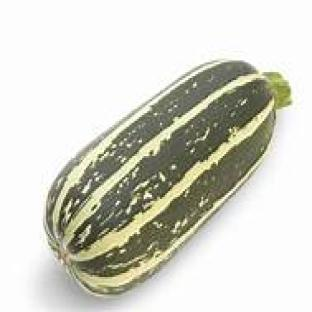Zucchini: (45, 61, 290, 294)
